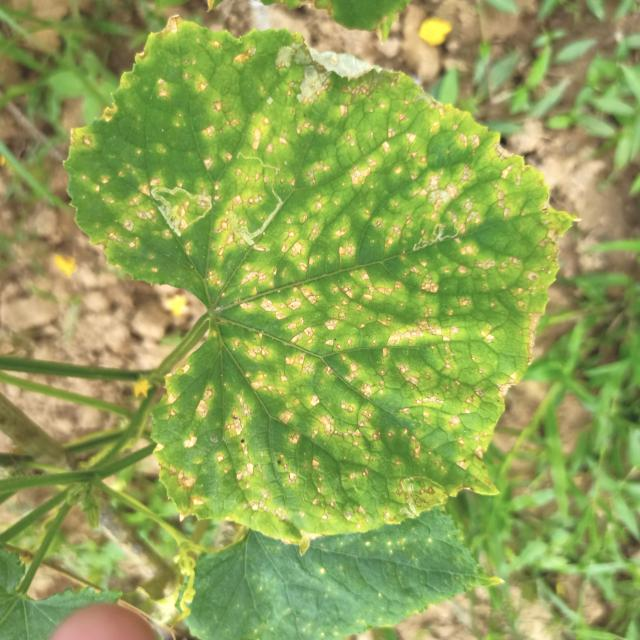disease_cucumber: (74, 31, 564, 520)
